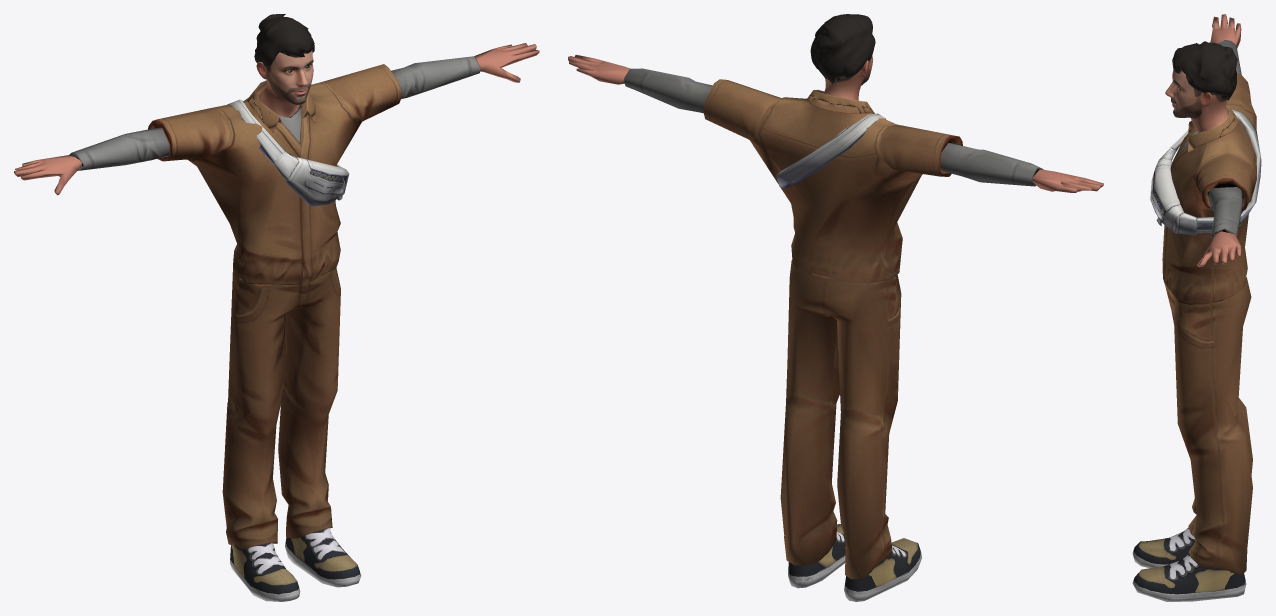
Rendered from Manu.fbx.
3 views of the same model, side by side, from view 1: azimuth 30°, elevation 25°; view 2: azimuth 150°, elevation 25°; view 3: azimuth 270°, elevation 25° (orthographic). The views are drawn at different scales.
Visible parts, largest first — view 1: Wolf3D_Avatar; view 2: Wolf3D_Avatar; view 3: Wolf3D_Avatar.
Part boxes in pixels (<box>): Wolf3D_Avatar: <box>14,14,539,601</box>; Wolf3D_Avatar: <box>568,14,1103,601</box>; Wolf3D_Avatar: <box>1132,14,1261,601</box>.
Size of the model in its own units: 184 by 186 by 40.65.
1 material, 1 textured.
